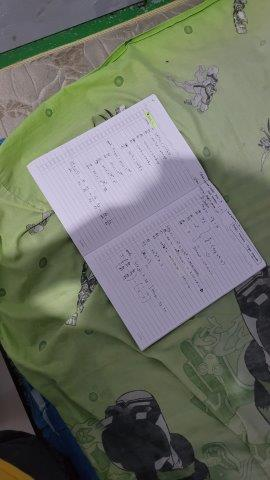kertas: (26, 95, 266, 352)
